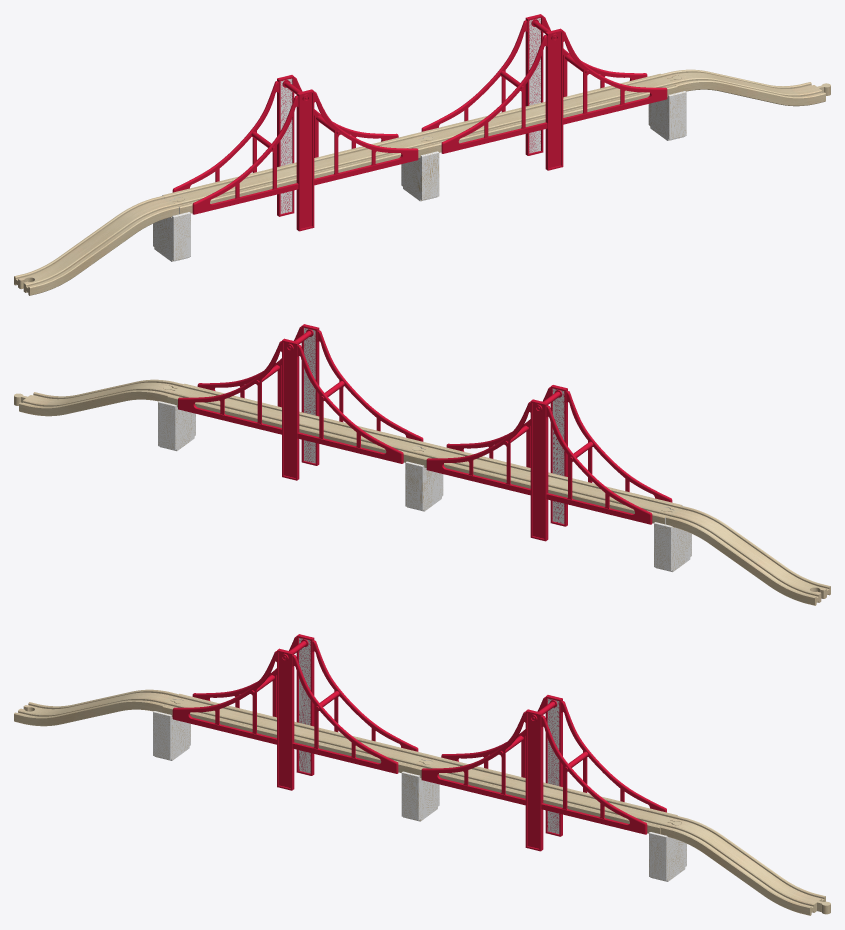
3 renders of one model, top to bottom at view 1: azimuth 30°, elevation 25°; view 2: azimuth 150°, elevation 25°; view 3: azimuth 330°, elevation 25°, orthographic.
Parts seen in each view (by area): view 1: group_5 (×2), N (×2), group_6 (×4), group_0 (×2), group_3 (×2), group_4 (×4), group_2 (×2), instance_4, instance_1, instance_3, group_1 (×2); view 2: group_5 (×2), N (×2), group_4 (×4), group_2 (×2), group_6 (×4), group_1 (×2), group_0 (×2), group_3 (×2), instance_4, instance_1, instance_3; view 3: group_5 (×2), N (×2), group_6 (×4), group_3 (×2), group_0 (×2), group_4 (×4), group_1 (×2), instance_3, instance_1, instance_4, group_2 (×2).
Part boxes in pixels (left/top/right/bottom): group_5 (×2): left=163, top=73, right=681, bottom=213; N (×2): left=14, top=69, right=830, bottom=295; group_6 (×4): left=296, top=28, right=563, bottom=231; group_0 (×2): left=192, top=35, right=547, bottom=214; group_3 (×2): left=314, top=31, right=667, bottom=185; group_4 (×4): left=277, top=14, right=543, bottom=216; group_2 (×2): left=172, top=20, right=527, bottom=192; instance_4: left=153, top=212, right=190, bottom=261; instance_1: left=401, top=151, right=439, bottom=201; instance_3: left=648, top=91, right=686, bottom=140; group_1 (×2): left=294, top=16, right=647, bottom=157; group_5 (×2): left=163, top=383, right=681, bottom=524; N (×2): left=14, top=379, right=830, bottom=605; group_4 (×4): left=282, top=338, right=548, bottom=541; group_2 (×2): left=297, top=345, right=652, bottom=524; group_6 (×4): left=301, top=324, right=567, bottom=526; group_1 (×2): left=178, top=341, right=530, bottom=495; group_0 (×2): left=317, top=330, right=672, bottom=502; group_3 (×2): left=197, top=326, right=550, bottom=467; instance_4: left=654, top=522, right=691, bottom=572; instance_1: left=405, top=461, right=443, bottom=511; instance_3: left=158, top=401, right=195, bottom=451; group_5 (×2): left=162, top=693, right=681, bottom=834; N (×2): left=14, top=689, right=830, bottom=915; group_6 (×4): left=277, top=648, right=543, bottom=851; group_3 (×2): left=292, top=655, right=647, bottom=834; group_0 (×2): left=172, top=651, right=525, bottom=805; group_4 (×4): left=296, top=634, right=562, bottom=836; group_1 (×2): left=312, top=640, right=666, bottom=812; instance_3: left=649, top=832, right=686, bottom=881; instance_1: left=401, top=771, right=439, bottom=821; instance_4: left=153, top=711, right=190, bottom=760; group_2 (×2): left=192, top=636, right=545, bottom=777.
Size of the model in its own units: 46.06 by 2.2 by 7.56.
